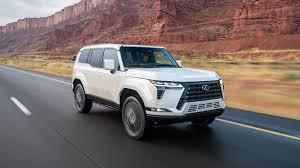lexus: (198, 83, 210, 91)
